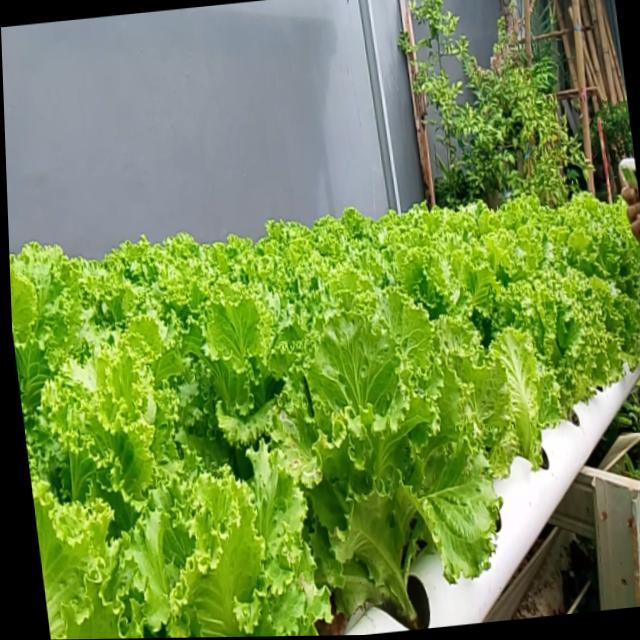Mature: (284, 301, 506, 631), (509, 268, 624, 436)
